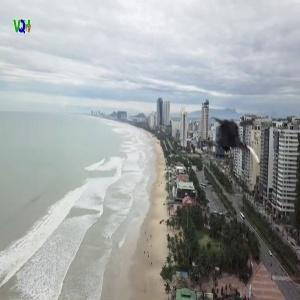drone: (192, 103, 278, 189)
